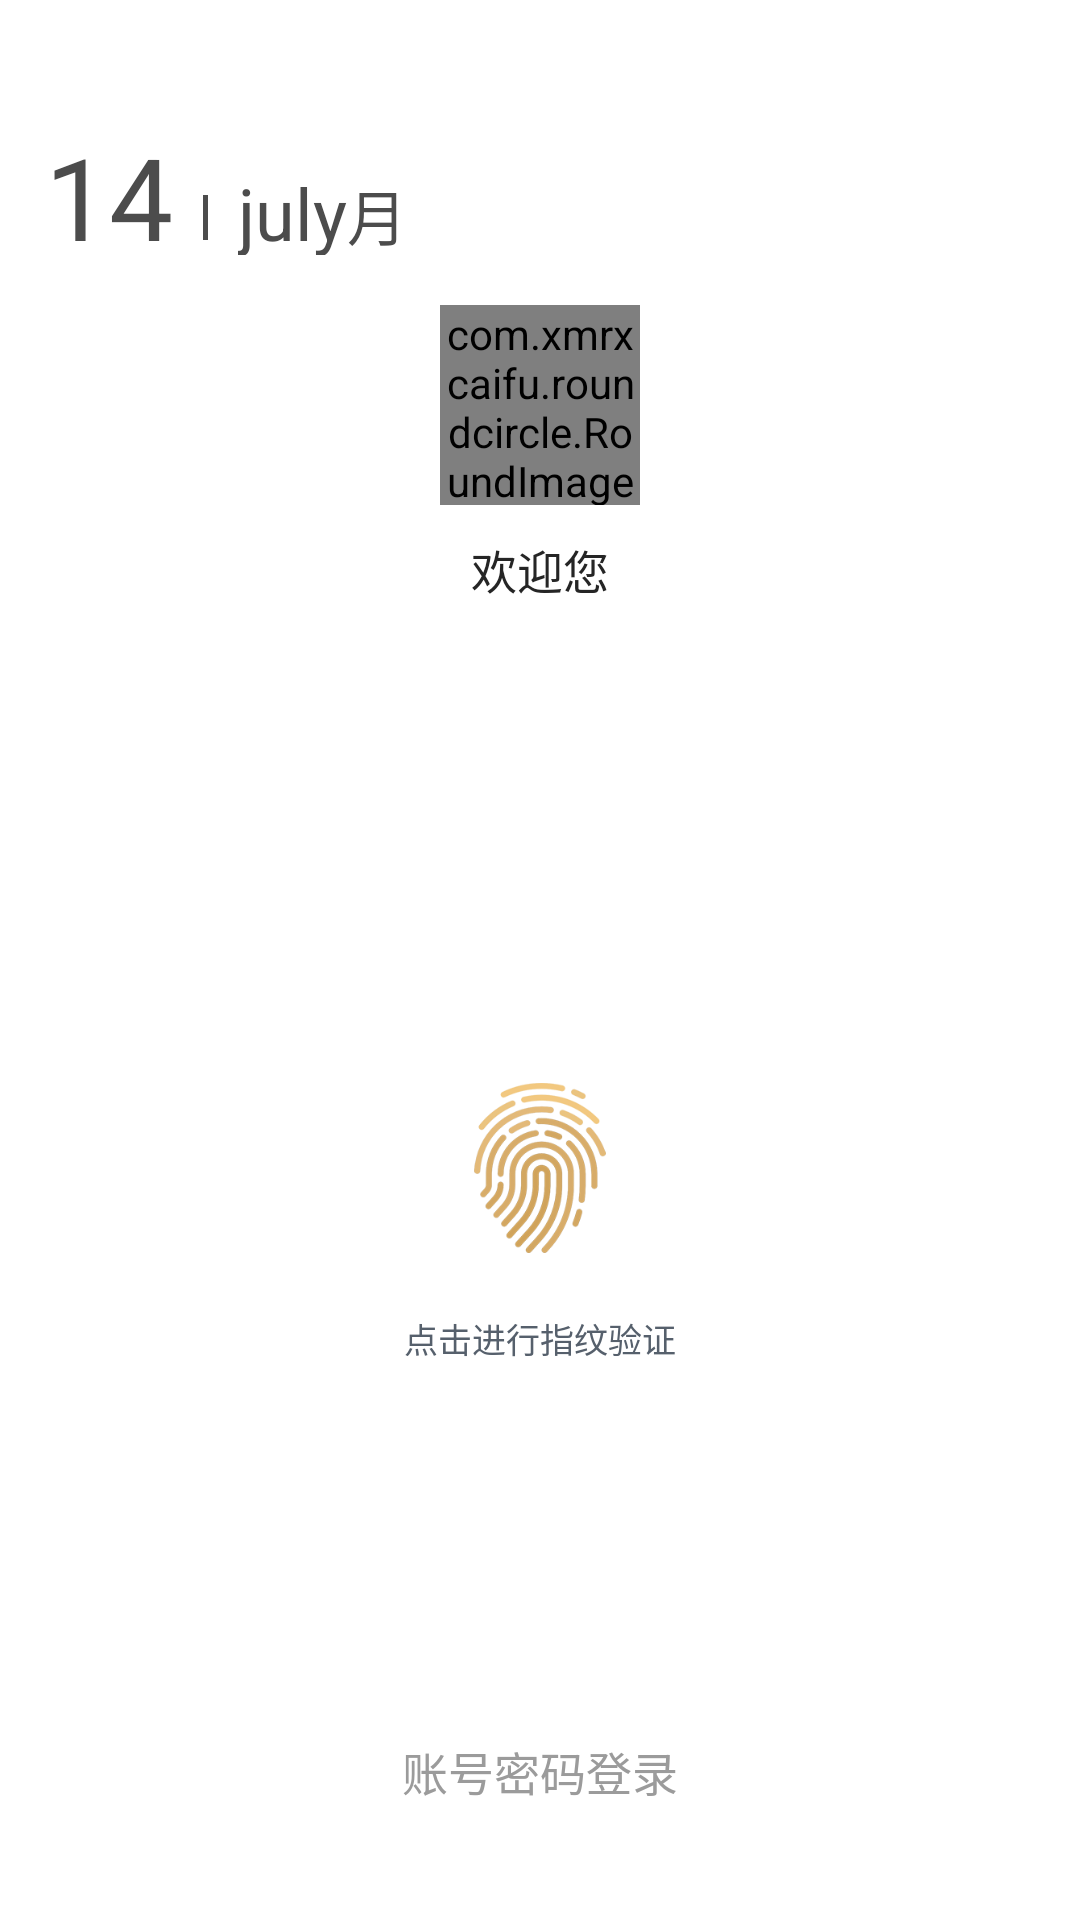

Icon click points for this 1080×1920 phone screenshot, format [x,y]:
zhiwen: [540,1168]
